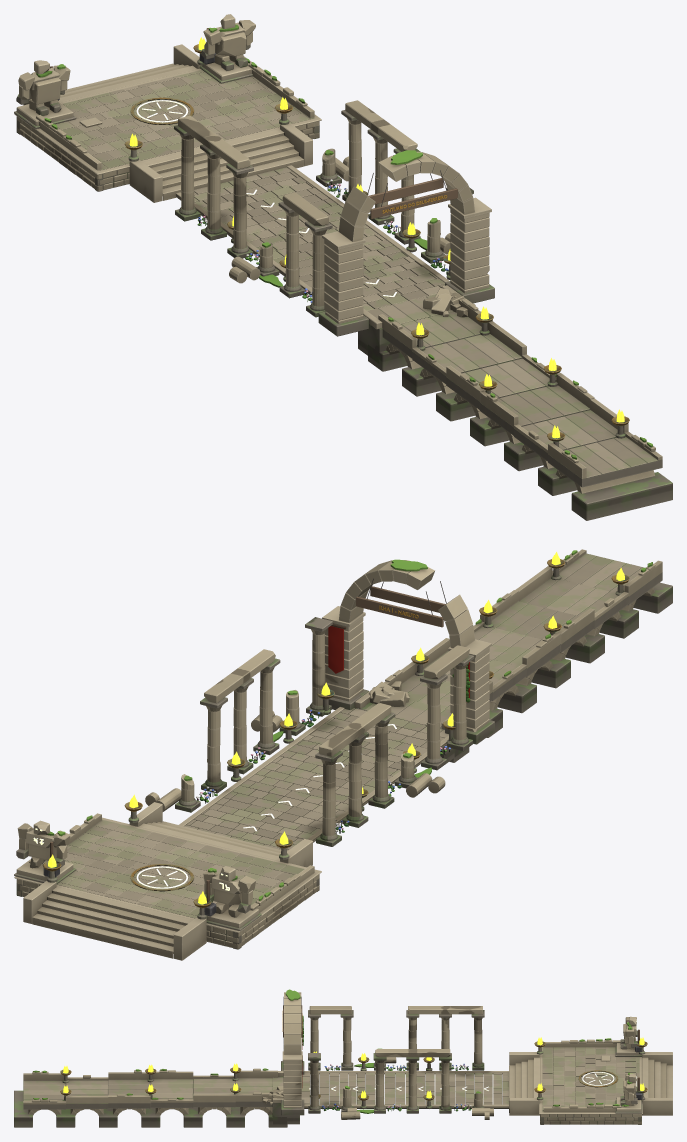
Rendered from LOBBY_SN_07_EXIT_06bf56.fbx.
3 renders of one model, top to bottom at view 1: azimuth 30°, elevation 25°; view 2: azimuth 150°, elevation 25°; view 3: azimuth 270°, elevation 25°, orthographic. The views are drawn at different scales.
Parts seen in each view (by area): view 1: WB_Exit_Spawn__SNB_Spawn__SNB_Spawn, WB_Exit_Bridge__SNB_Bridge__SNB_Bridge, WB_Exit_Avenue__SNB_Avenue__SNB_Avenue_1, WB_Exit_Gate__SNB_Gate__SNB_Gate, WB_Exit_Avenue__SNB_Avenue__SNB_Avenue_0; view 2: WB_Exit_Spawn__SNB_Spawn__SNB_Spawn, WB_Exit_Bridge__SNB_Bridge__SNB_Bridge, WB_Exit_Avenue__SNB_Avenue__SNB_Avenue_1, WB_Exit_Avenue__SNB_Avenue__SNB_Avenue_0, WB_Exit_Gate__SNB_Gate__SNB_Gate; view 3: WB_Exit_Spawn__SNB_Spawn__SNB_Spawn, WB_Exit_Bridge__SNB_Bridge__SNB_Bridge, WB_Exit_Avenue__SNB_Avenue__SNB_Avenue_1, WB_Exit_Avenue__SNB_Avenue__SNB_Avenue_0, WB_Exit_Gate__SNB_Gate__SNB_Gate, WB_Exit_Bridge__WB_Fire__WB_Fire.
Boxes of the visible parts, x1,y1,x2,y2 form: WB_Exit_Spawn__SNB_Spawn__SNB_Spawn: (14, 14, 321, 202); WB_Exit_Bridge__SNB_Bridge__SNB_Bridge: (358, 285, 672, 520); WB_Exit_Avenue__SNB_Avenue__SNB_Avenue_1: (174, 100, 449, 292); WB_Exit_Gate__SNB_Gate__SNB_Gate: (318, 150, 494, 336); WB_Exit_Avenue__SNB_Avenue__SNB_Avenue_0: (194, 120, 473, 317); WB_Exit_Spawn__SNB_Spawn__SNB_Spawn: (14, 802, 321, 960); WB_Exit_Bridge__SNB_Bridge__SNB_Bridge: (355, 549, 672, 762); WB_Exit_Avenue__SNB_Avenue__SNB_Avenue_1: (145, 653, 447, 851); WB_Exit_Avenue__SNB_Avenue__SNB_Avenue_0: (186, 617, 473, 842); WB_Exit_Gate__SNB_Gate__SNB_Gate: (317, 559, 494, 744); WB_Exit_Spawn__SNB_Spawn__SNB_Spawn: (509, 1016, 672, 1124); WB_Exit_Bridge__SNB_Bridge__SNB_Bridge: (14, 1067, 299, 1127); WB_Exit_Avenue__SNB_Avenue__SNB_Avenue_1: (304, 1006, 508, 1119); WB_Exit_Avenue__SNB_Avenue__SNB_Avenue_0: (301, 1006, 496, 1119); WB_Exit_Gate__SNB_Gate__SNB_Gate: (262, 989, 320, 1115); WB_Exit_Bridge__WB_Fire__WB_Fire: (63, 1063, 238, 1093).
Bounding box in the file's own units: 46.08 × 36.18 × 181.
Materials: 7 (4 with a texture image).
